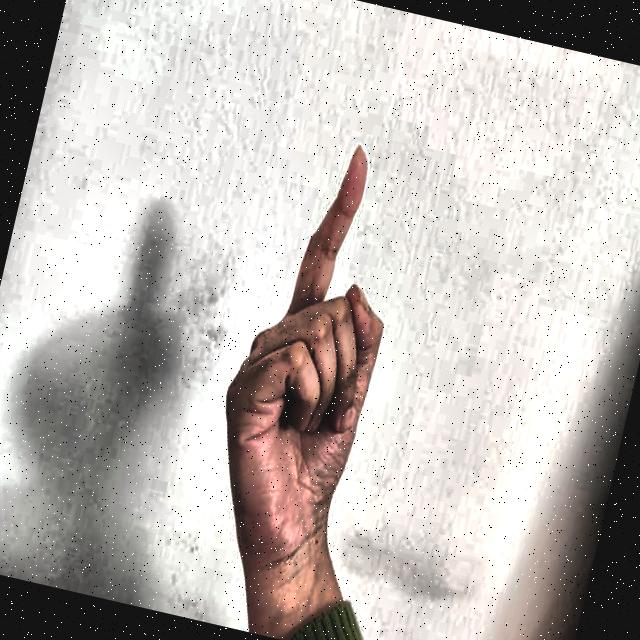U: (168, 97, 442, 583)
